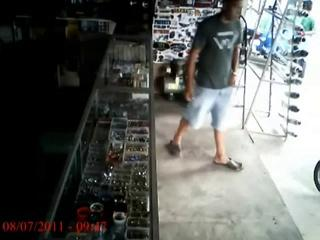Normal: (300, 1, 316, 33)
shoplifting: (166, 0, 246, 170)
